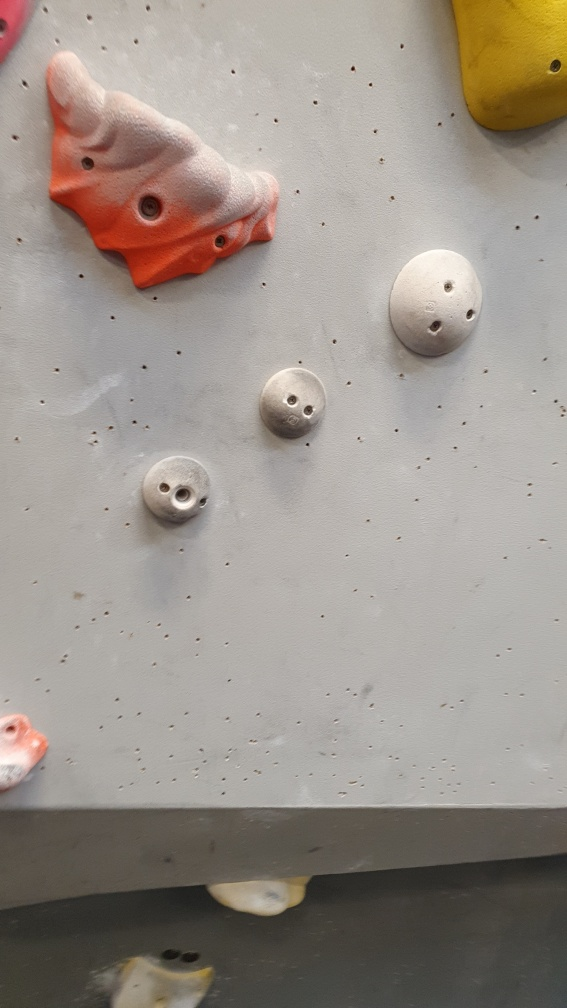Hand Start: (159, 943, 180, 965), (181, 949, 202, 966)
Jug: (42, 46, 288, 294)
Sloper: (387, 247, 485, 360), (141, 453, 216, 528), (258, 362, 329, 441)
